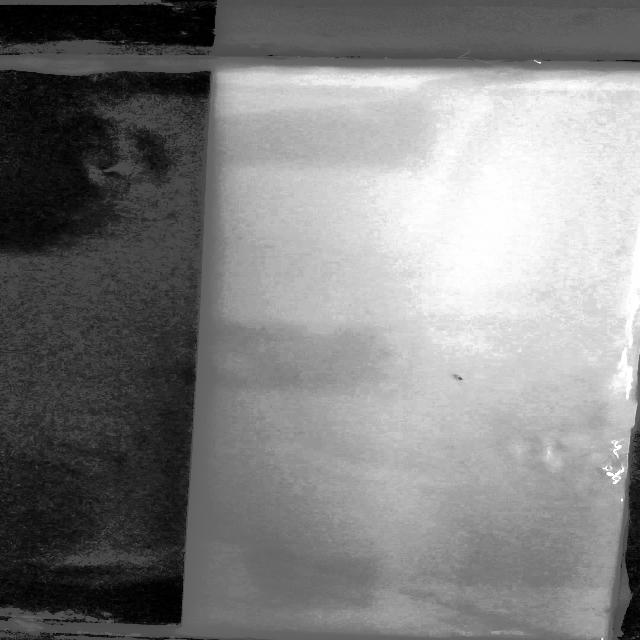shrimp: (442, 365, 480, 391)
